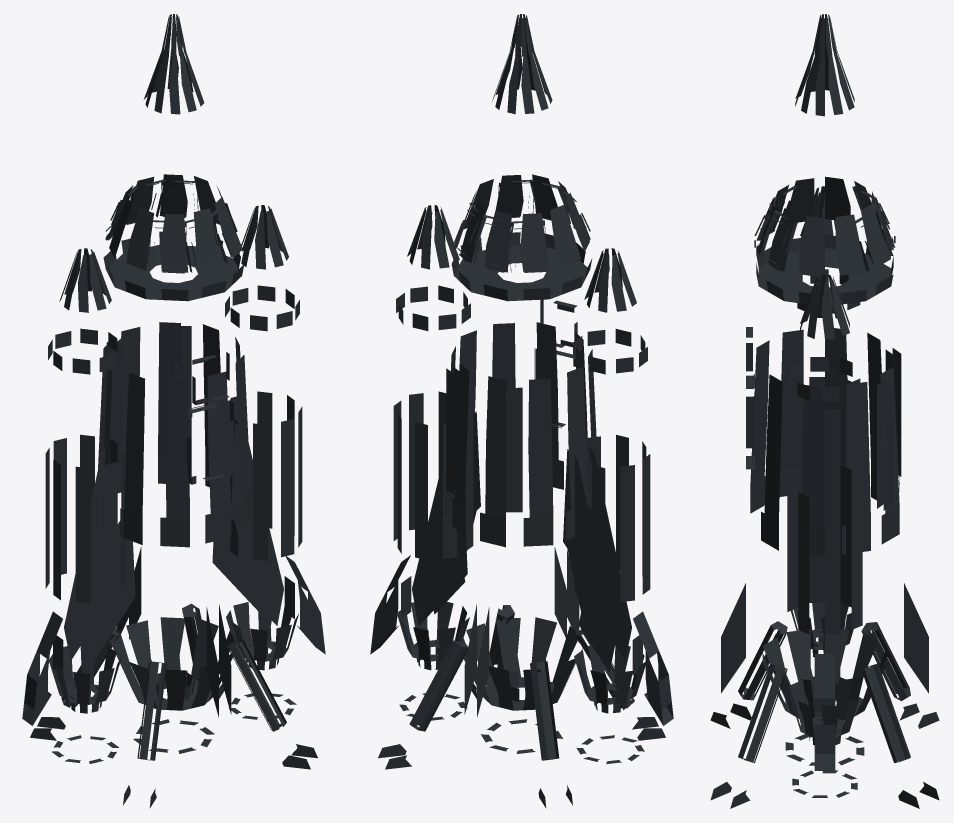
File: courier.obj
3 views of the same model, side by side, from view 1: azimuth 30°, elevation 25°; view 2: azimuth 150°, elevation 25°; view 3: azimuth 270°, elevation 25° (orthographic).
Visible parts, largest first — view 1: airframe, access_hatch; view 2: airframe; view 3: airframe, access_hatch.
Boxes of the visible parts, left/top/right/bottom form: airframe: left=22, top=14, right=325, bottom=808; access_hatch: left=187, top=400, right=233, bottom=484; airframe: left=370, top=14, right=673, bottom=808; airframe: left=710, top=14, right=939, bottom=808; access_hatch: left=746, top=375, right=753, bottom=469.
Size of the model in its own units: 2.85 by 6.41 by 1.79.
